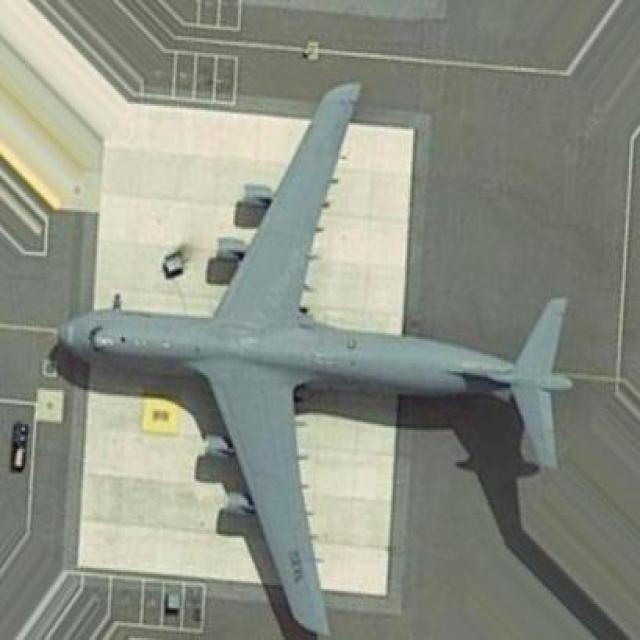C-5_TopDown: (45, 78, 576, 638)
